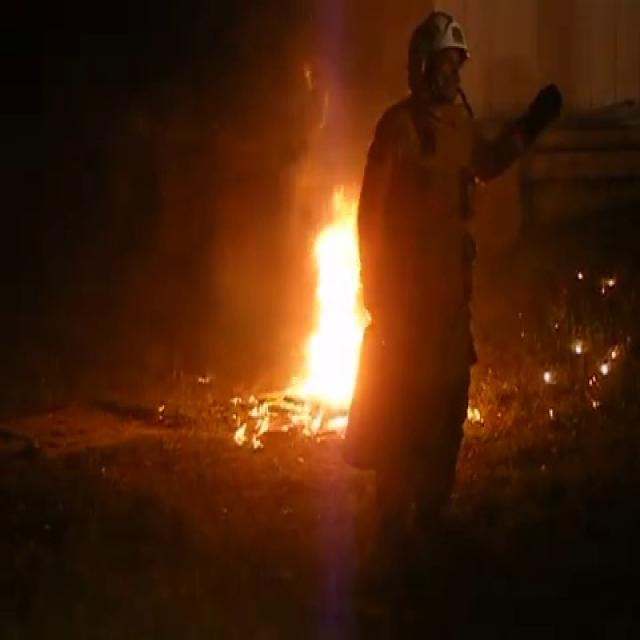Fire: (287, 186, 376, 426), (226, 368, 306, 450)
Smoke: (176, 0, 427, 240)
